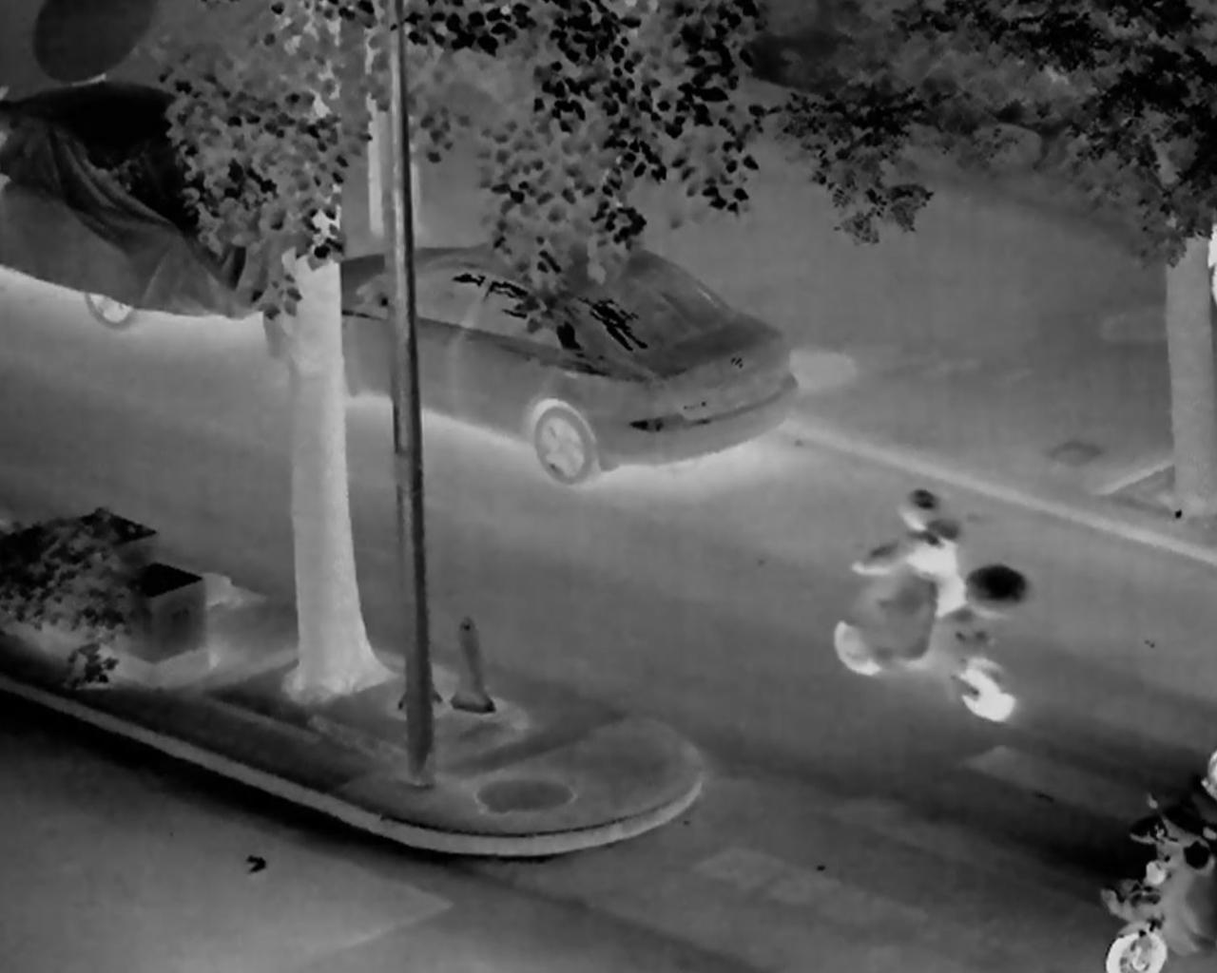person: (853, 488, 969, 651)
